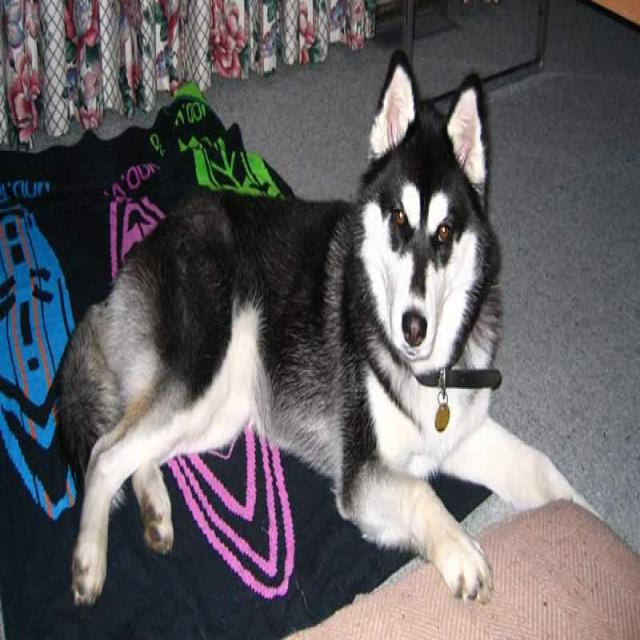relax: (38, 60, 586, 607)
